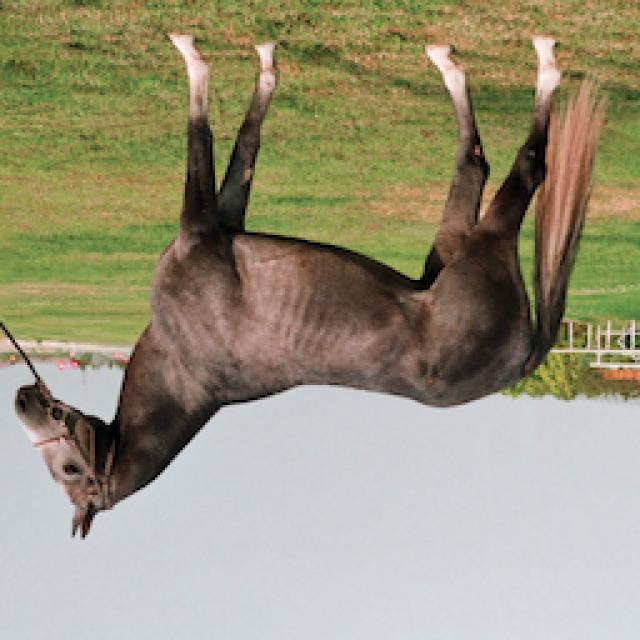Horse: (0, 25, 620, 548)
